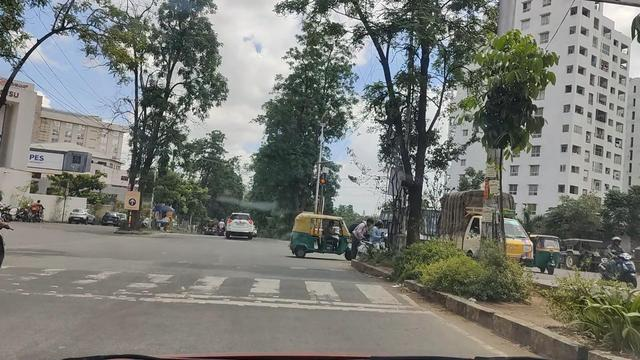LMV: (289, 213, 352, 256)
SpeedBump: (3, 260, 399, 305)
